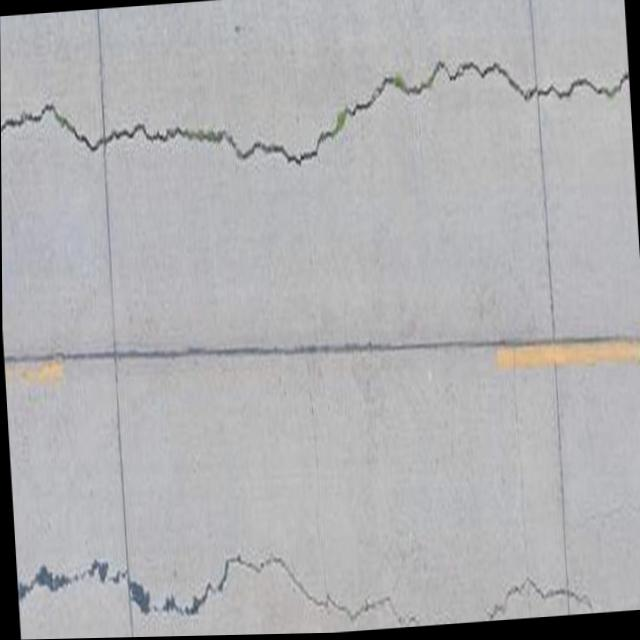Crack: (0, 32, 633, 202)
